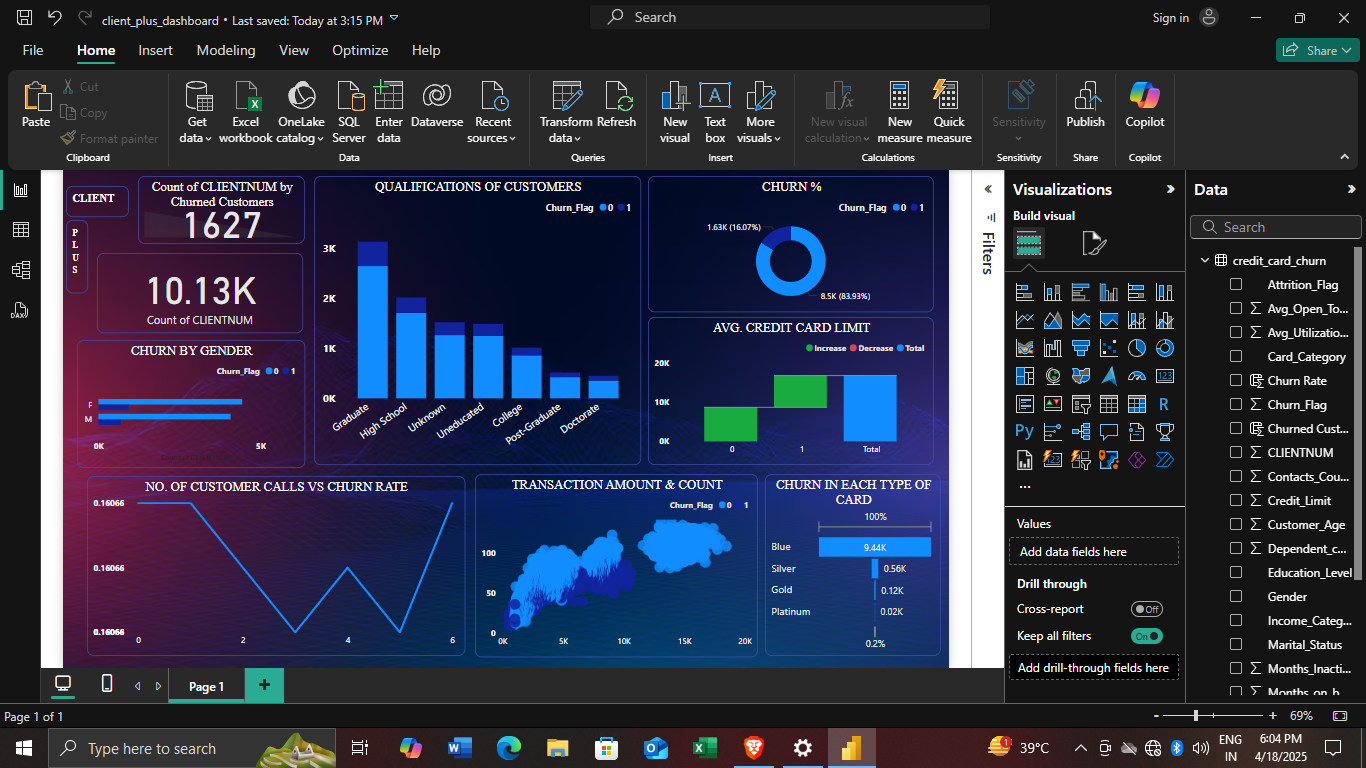

What the dashboard file says about the page in this screenshot:
{"tool":"powerbi","page":{"name":"Page 1","canvas":[1280,720],"ordinal":0},"visuals":[{"type":"donutChart","title":"CHURN %","fields":{"Y":["CountNonNull(credit_card_churn.CLIENTNUM)"],"Category":["credit_card_churn.Churn_Flag"]},"box":[845.8,8.7,413.5,196.6],"z":0},{"type":"columnChart","title":"QUALIFICATIONS OF CUSTOMERS","fields":{"Category":["credit_card_churn.Education_Level"],"Y":["Count(credit_card_churn.CLIENTNUM)"],"Series":["credit_card_churn.Churn_Flag"]},"box":[362.9,8.7,472.8,417.8],"z":1003},{"type":"lineChart","title":"NO. OF CUSTOMER CALLS VS CHURN RATE","fields":{"Category":["credit_card_churn.Contacts_Count_12_mon"],"Y":["Avg(credit_card_churn.Churn Rate)"]},"box":[34.7,442.4,546.5,260.2],"z":1004},{"type":"scatterChart","title":"TRANSACTION AMOUNT & COUNT","fields":{"Series":["credit_card_churn.Churn_Flag"],"Size":["CountNonNull(credit_card_churn.Avg_Open_To_Buy)"],"X":["credit_card_churn.Total_Trans_Amt"],"Y":["credit_card_churn.Total_Trans_Ct"]},"box":[595.7,439.5,409.2,264.6],"z":1006},{"type":"card","fields":{"Values":["CountNonNull(credit_card_churn.CLIENTNUM)"]},"box":[49.2,120,297.8,115.7],"z":1008},{"type":"kpi","fields":{"Indicator":["CountNonNull(credit_card_churn.CLIENTNUM)"],"TrendLine":["credit_card_churn.Churned Customers"]},"box":[108.4,8.7,241.4,98.3],"z":1010},{"type":"clusteredBarChart","title":"CHURN BY GENDER","fields":{"Category":["credit_card_churn.Gender"],"Series":["credit_card_churn.Churn_Flag"],"Y":["CountNonNull(credit_card_churn.CLIENTNUM)"]},"box":[20.2,245.8,329.6,185.1],"z":1011},{"type":"waterfallChart","title":"AVG. CREDIT CARD LIMIT ","fields":{"Category":["credit_card_churn.Churn_Flag"],"Y":["Avg(credit_card_churn.Credit_Limit)"]},"box":[845.8,212.5,413.5,214],"z":1012},{"type":"funnel","title":"CHURN IN EACH TYPE OF CARD ","fields":{"Category":["credit_card_churn.Card_Category","credit_card_churn.Churn_Flag"],"Y":["Count(credit_card_churn.CLIENTNUM)"]},"box":[1014.9,439.5,254.5,263.1],"z":1013},{"type":"textbox","box":[4.3,23.1,91.1,44.8],"z":1014},{"type":"textbox","box":[4.3,72.3,31.8,105.5],"z":1015}]}

Visuals, with their boxes on the page's 1280x720 design canvas (x1, y1, x2, y2). These are canvas units, not pixel positions in the 1366x768 screenshot, which may show the page scaled, cropped or inside an application window:
"CHURN %" donutChart: {"x1": 846, "y1": 9, "x2": 1259, "y2": 205}
"QUALIFICATIONS OF CUSTOMERS" columnChart: {"x1": 363, "y1": 9, "x2": 836, "y2": 426}
"NO. OF CUSTOMER CALLS VS CHURN RATE" lineChart: {"x1": 35, "y1": 442, "x2": 581, "y2": 703}
"TRANSACTION AMOUNT & COUNT" scatterChart: {"x1": 596, "y1": 440, "x2": 1005, "y2": 704}
card - CountNonNull(credit_card_churn.CLIENTNUM): {"x1": 49, "y1": 120, "x2": 347, "y2": 236}
kpi - CountNonNull(credit_card_churn.CLIENTNUM) x credit_card_churn.Churned Customers: {"x1": 108, "y1": 9, "x2": 350, "y2": 107}
"CHURN BY GENDER" clusteredBarChart: {"x1": 20, "y1": 246, "x2": 350, "y2": 431}
"AVG. CREDIT CARD LIMIT " waterfallChart: {"x1": 846, "y1": 212, "x2": 1259, "y2": 426}
"CHURN IN EACH TYPE OF CARD " funnel: {"x1": 1015, "y1": 440, "x2": 1269, "y2": 703}
textbox: {"x1": 4, "y1": 23, "x2": 95, "y2": 68}
textbox: {"x1": 4, "y1": 72, "x2": 36, "y2": 178}
